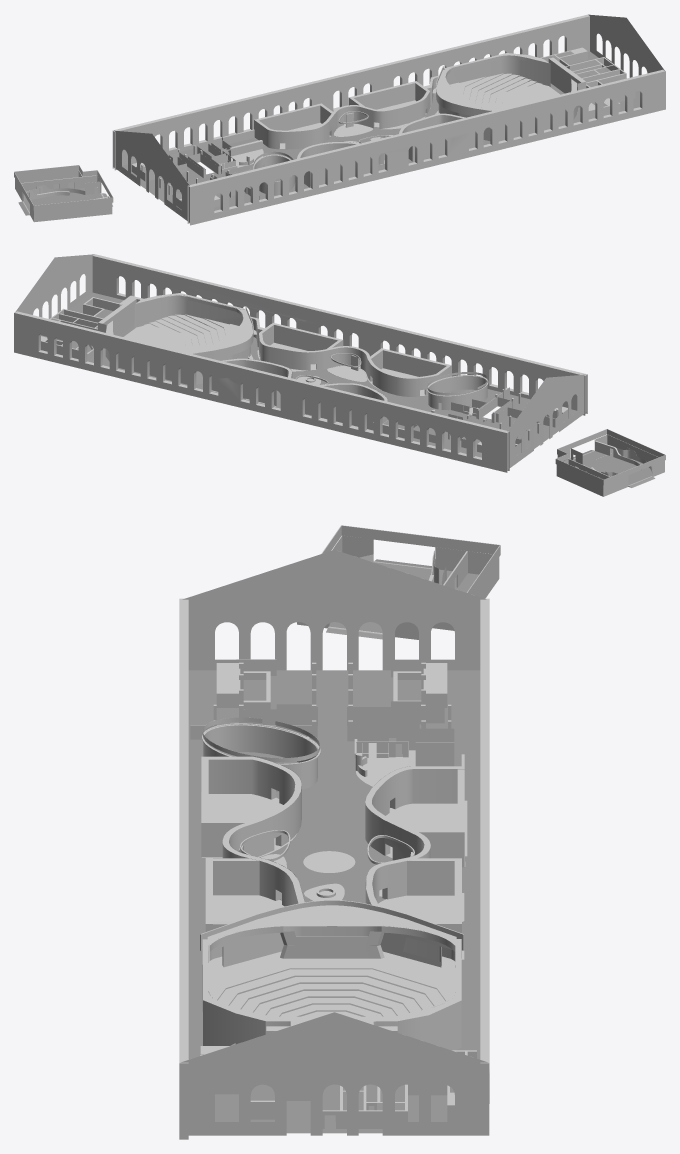
The model's file is SM_MFF_baked.glb.
3 renders of one model, top to bottom at view 1: azimuth 30°, elevation 25°; view 2: azimuth 150°, elevation 25°; view 3: azimuth 270°, elevation 25°, orthographic. The views are drawn at different scales.
Parts seen in each view (by area): view 1: SM_MFF.002; view 2: SM_MFF.002; view 3: SM_MFF.002.
Boxes of the visible parts, bbox=[...] form: SM_MFF.002: bbox=[14, 14, 665, 225]; SM_MFF.002: bbox=[14, 254, 665, 496]; SM_MFF.002: bbox=[179, 525, 500, 1139].
Bounding box in the file's own units: 210 × 21.57 × 49.43.
Materials: 1 (1 with a texture image).
